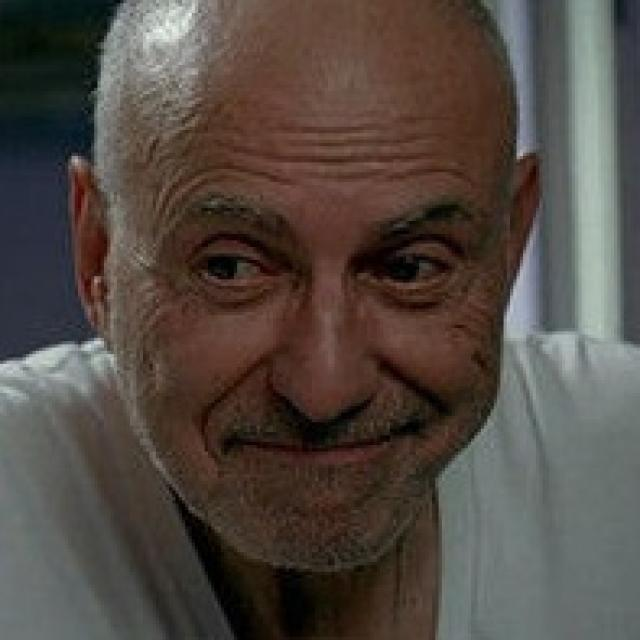Normal: (107, 0, 523, 573)
